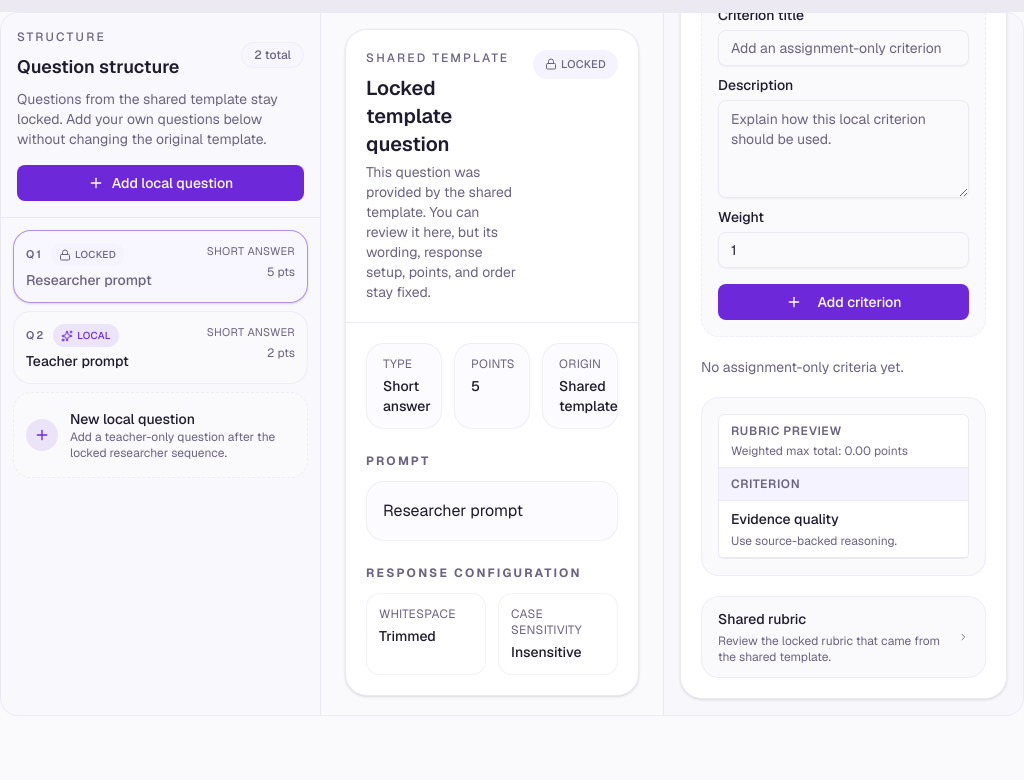
it: AssignmentComposerPanel › renders the builder with locked researcher content and editable teacher content
(page scrolled)
Expected: the heading "Question structure" is shown, [17,53,180,81]
What coordinates should you click on to do the following:
click the button "Shared rubric"
I would click on:
 (844, 637)
Its box is [702,597,985,677].
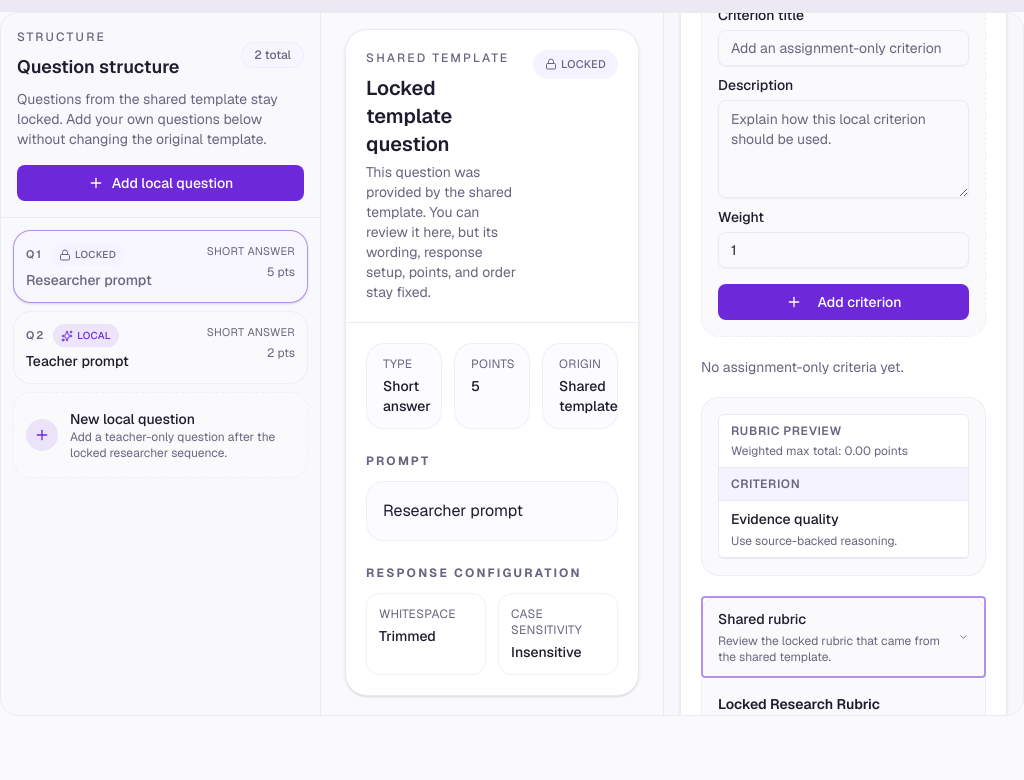
Now the text "Locked Research Rubric" is shown, box [718,695,880,713]
What coordinates should you click on to do the following:
click the button "Q2 Local Teacher prompt Short answer 2 pts"
I would click on:
 (86, 336)
Its box is [13,311,308,384].
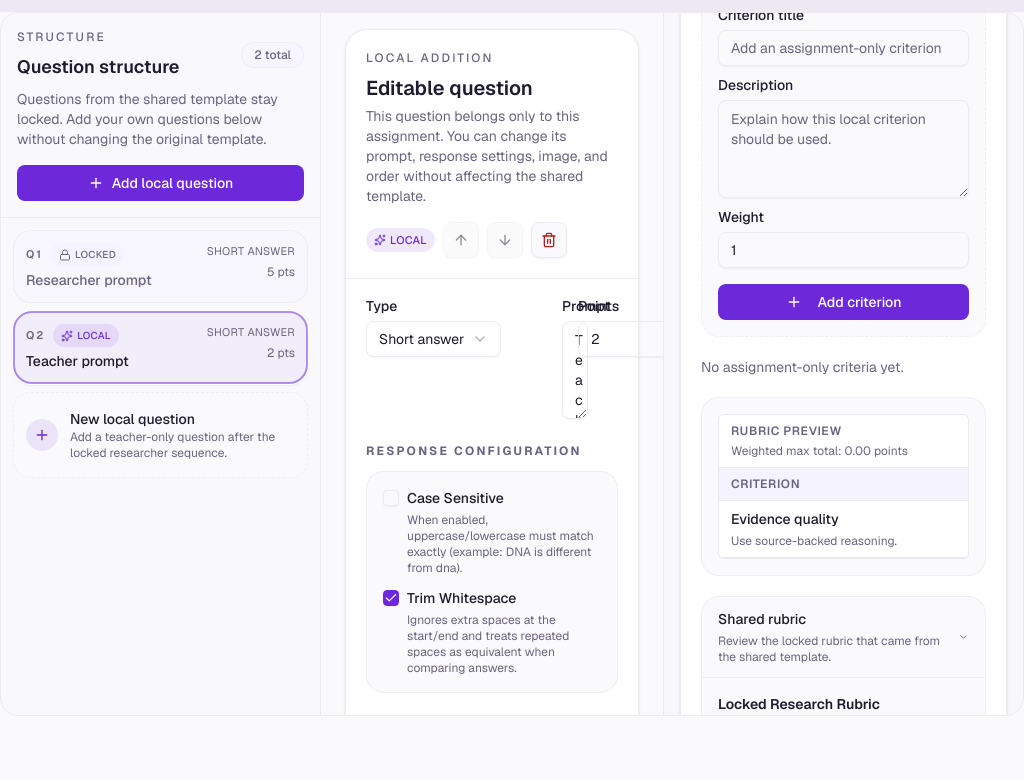
Now the heading "Editable question" is shown, box [366,75,533,101]
Now the text box showing "Teacher prompt" is shown, box [562,321,588,419]
What coordinates should you click on to do the following:
click the button "Q1 Locked Researcher prompt Short answer 5 pts"
I would click on:
 (87, 254)
Its box is [13,230,308,303].
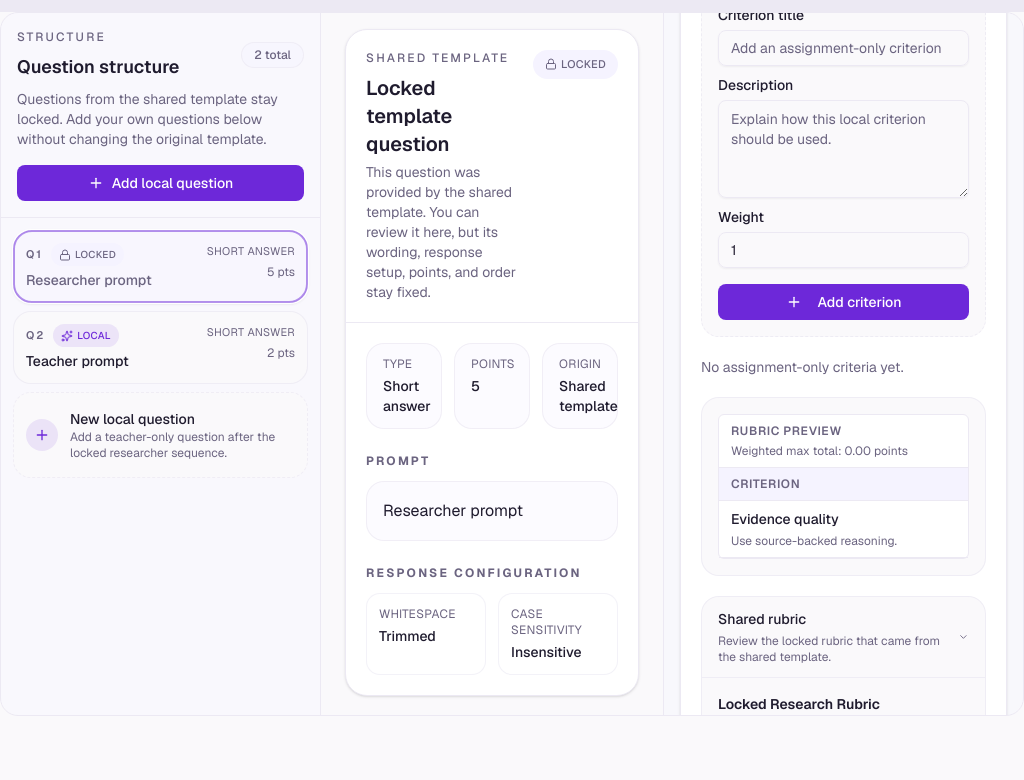
Now the heading "Locked template question" is shown, box [366,75,452,157]
Now the 1st text "Shared template" is shown, box [366,50,517,66]
